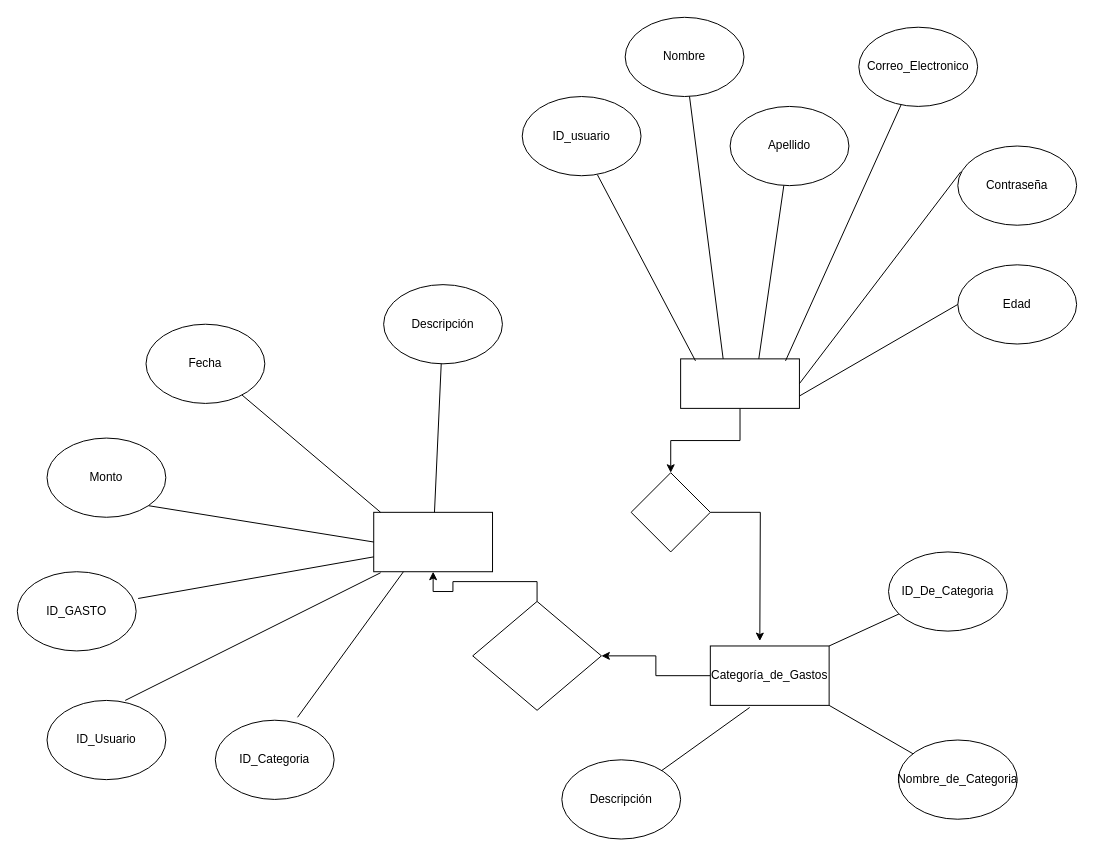
Image size: 1094x856. Some labels were removed from this diagram. Each missing label, with the centre of its shape:
administra: the point at 670,512
Definir: the point at 536,655
Gastos: the point at 433,541
Usuarios: the point at 739,383
